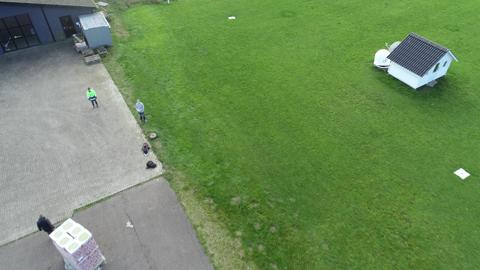RockwoolPallet: (51, 219, 108, 270)
